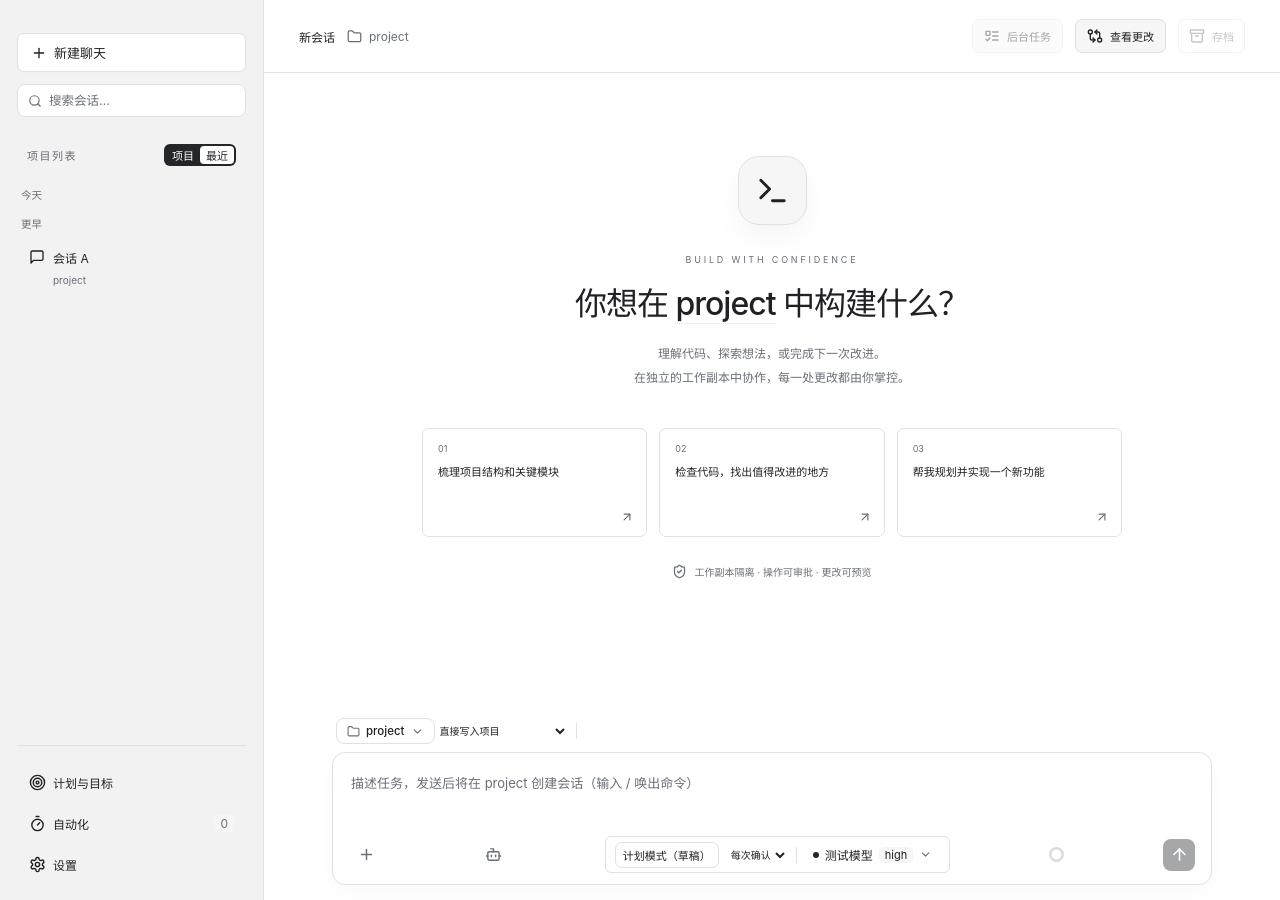
Test: 会话历史不限页数 › 手动按钮仍可加载更早历史
Step 1. Click the button "会话 A project" → (126, 268), box top-left (17, 238), bottom-right (236, 297)
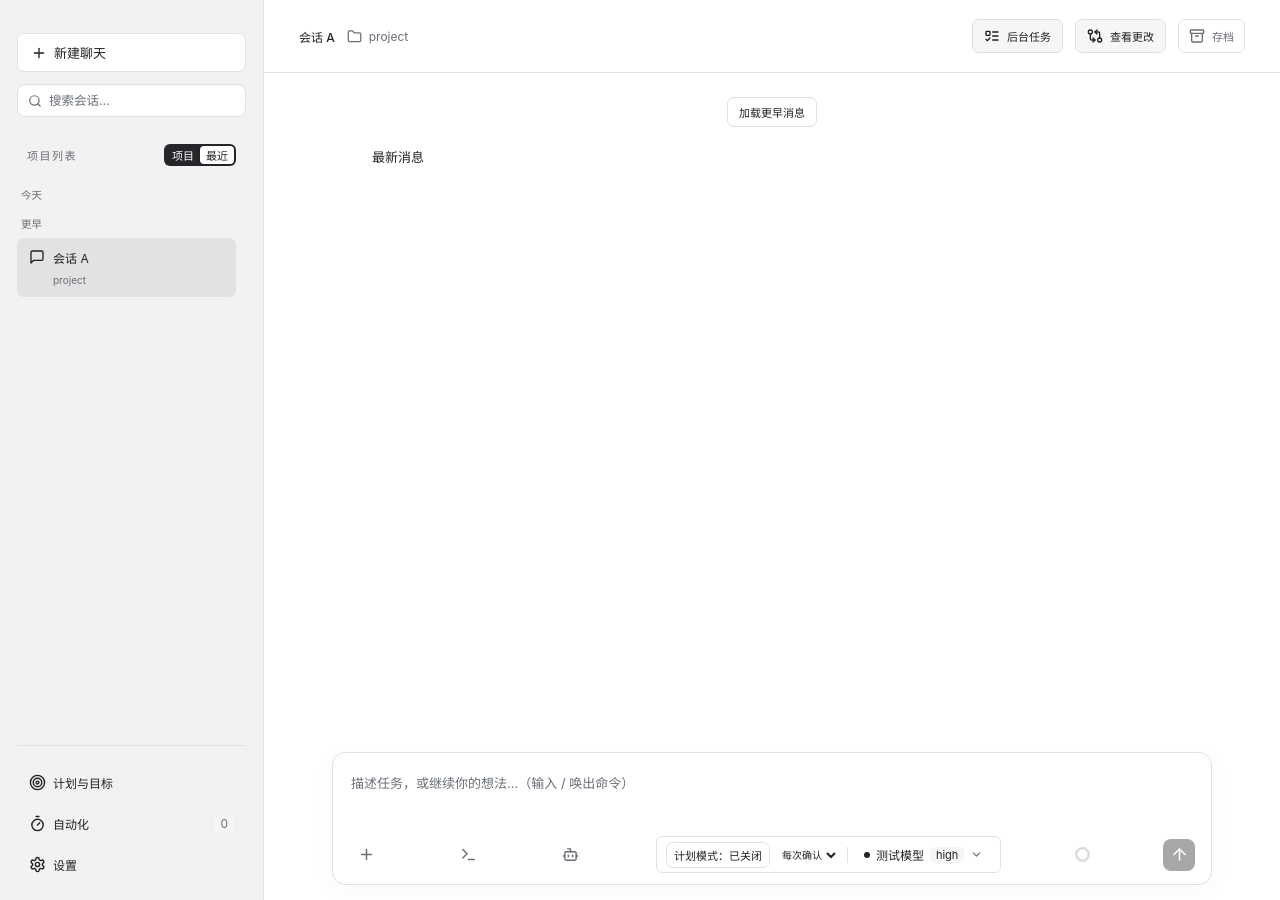
Expected: the text "最新消息" is shown, top-left (372, 149), bottom-right (424, 165)
Step 2. Click the button "加载更早消息" → (772, 112), box top-left (727, 97), bottom-right (817, 127)
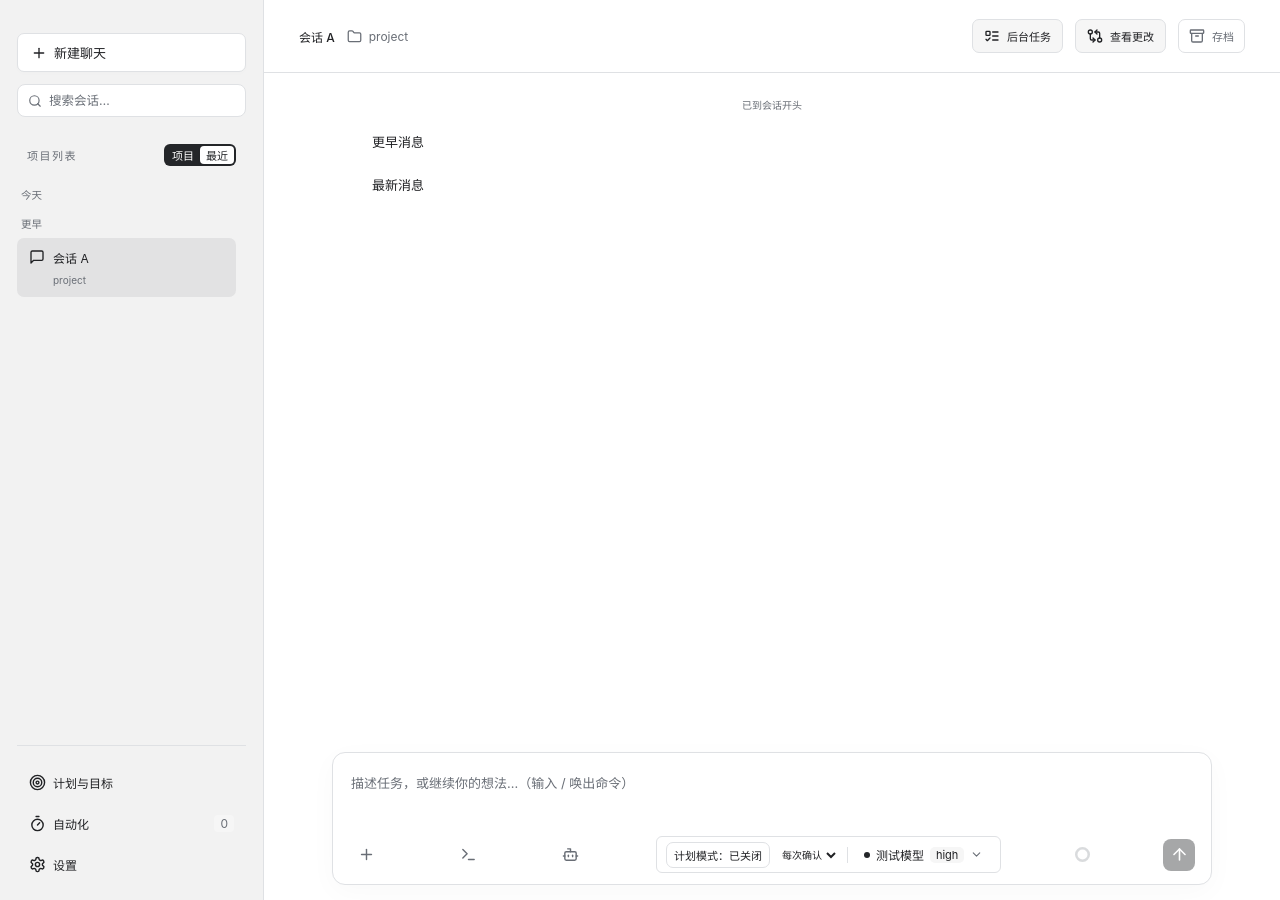
Expected: the text "更早消息" is shown, top-left (372, 134), bottom-right (424, 150)
Expected: the text "已到会话开头" is shown, top-left (742, 97), bottom-right (802, 112)
